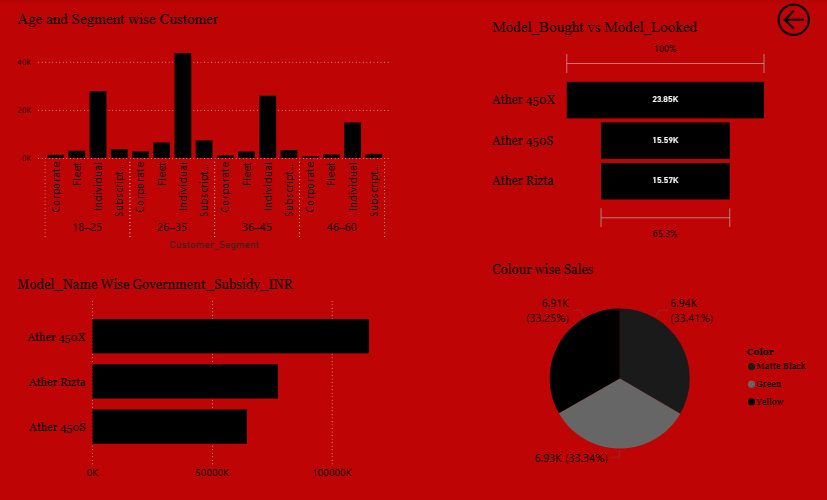

This screenshot's page, from the dashboard's own definition file:
{"tool":"powerbi","page":{"name":"Other insights","canvas":[1280,720],"ordinal":1},"visuals":[{"type":"columnChart","title":"Age and Segment wise Customer","fields":{"Category":["Customer_details.Age_Group","Customer_details.Customer_Segment"],"Y":["CountNonNull(Order_details.Customer_ID)"]},"box":[100.8,16.8,539.2,344.4],"z":0},{"type":"funnel","title":"Model_Bought  vs Model_Looked","fields":{"Category":["Other_details.Model_Looked"],"Y":["CountNonNull(Other_details.Model_Bought)"]},"box":[774.4,28.6,399.8,320.8],"z":1000},{"type":"pieChart","title":"Colour wise Sales","fields":{"Category":["Order_details.Color"],"Y":["CountNonNull(Order_details.Order_ID)"]},"box":[774.4,372.9,463.6,309.1],"z":2000},{"type":"clusteredBarChart","title":"Model_Name Wise Government_Subsidy_INR ","fields":{"Category":["Order_details.Model_Name"],"Y":["Sum(Order_details.Government_Subsidy_INR)"]},"box":[100.6,394,551.3,297.6],"z":3000},{"type":"actionButton","box":[1175.9,0,104.1,58.8],"z":4000}]}

Visuals, with their boxes on the page's 1280x720 design canvas (x1, y1, x2, y2). These are canvas units, not pixel positions in the 827x500 screenshot, which may show the page scaled, cropped or inside an application window:
"Age and Segment wise Customer" columnChart: l=101, t=17, r=640, b=361
"Model_Bought  vs Model_Looked" funnel: l=774, t=29, r=1174, b=349
"Colour wise Sales" pieChart: l=774, t=373, r=1238, b=682
"Model_Name Wise Government_Subsidy_INR " clusteredBarChart: l=101, t=394, r=652, b=692
actionButton: l=1176, t=0, r=1280, b=59
